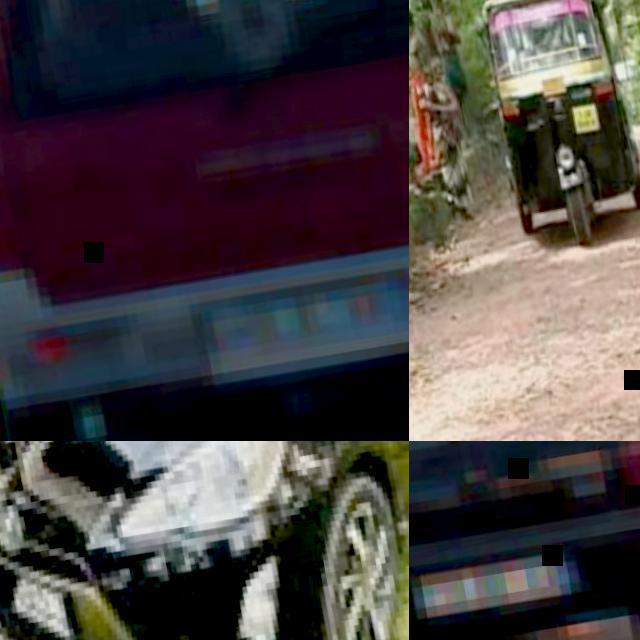car: (493, 0, 639, 242)
